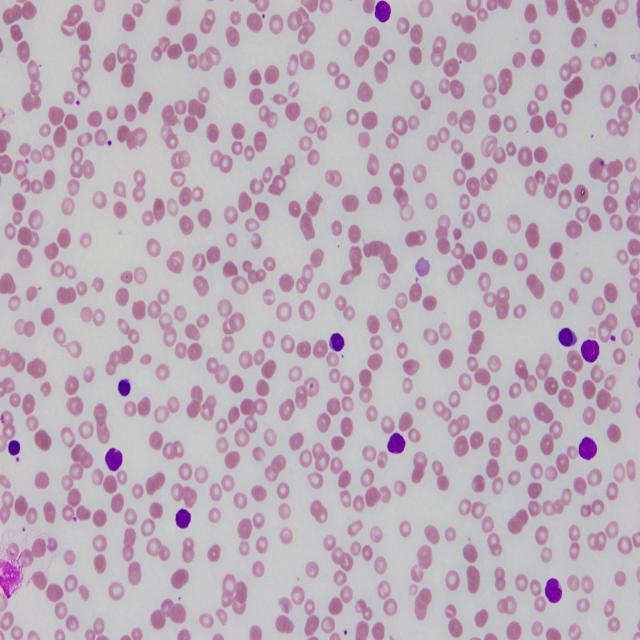cell: (545, 577, 563, 604), (581, 340, 600, 363), (579, 437, 598, 460), (105, 448, 122, 472), (559, 328, 578, 347), (375, 0, 391, 22), (388, 433, 405, 453), (175, 508, 191, 528), (330, 333, 345, 352), (118, 378, 131, 397), (8, 440, 20, 455)
